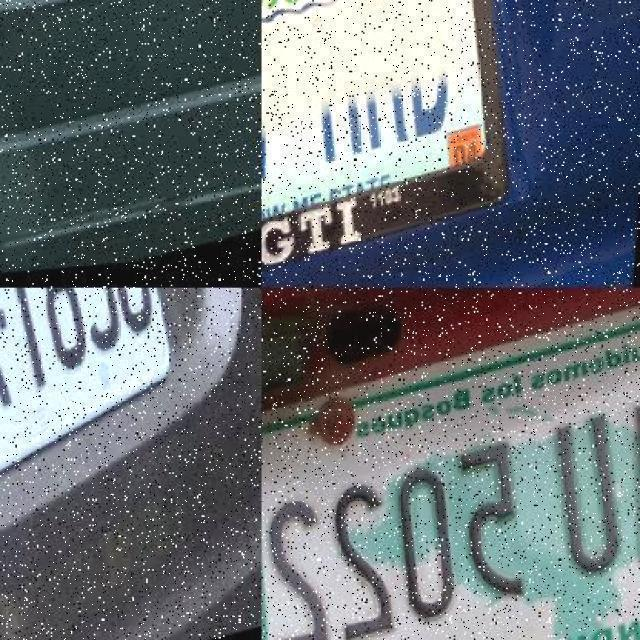license_plate: (260, 360, 640, 640), (262, 0, 484, 220), (0, 287, 181, 485), (36, 0, 168, 68)
